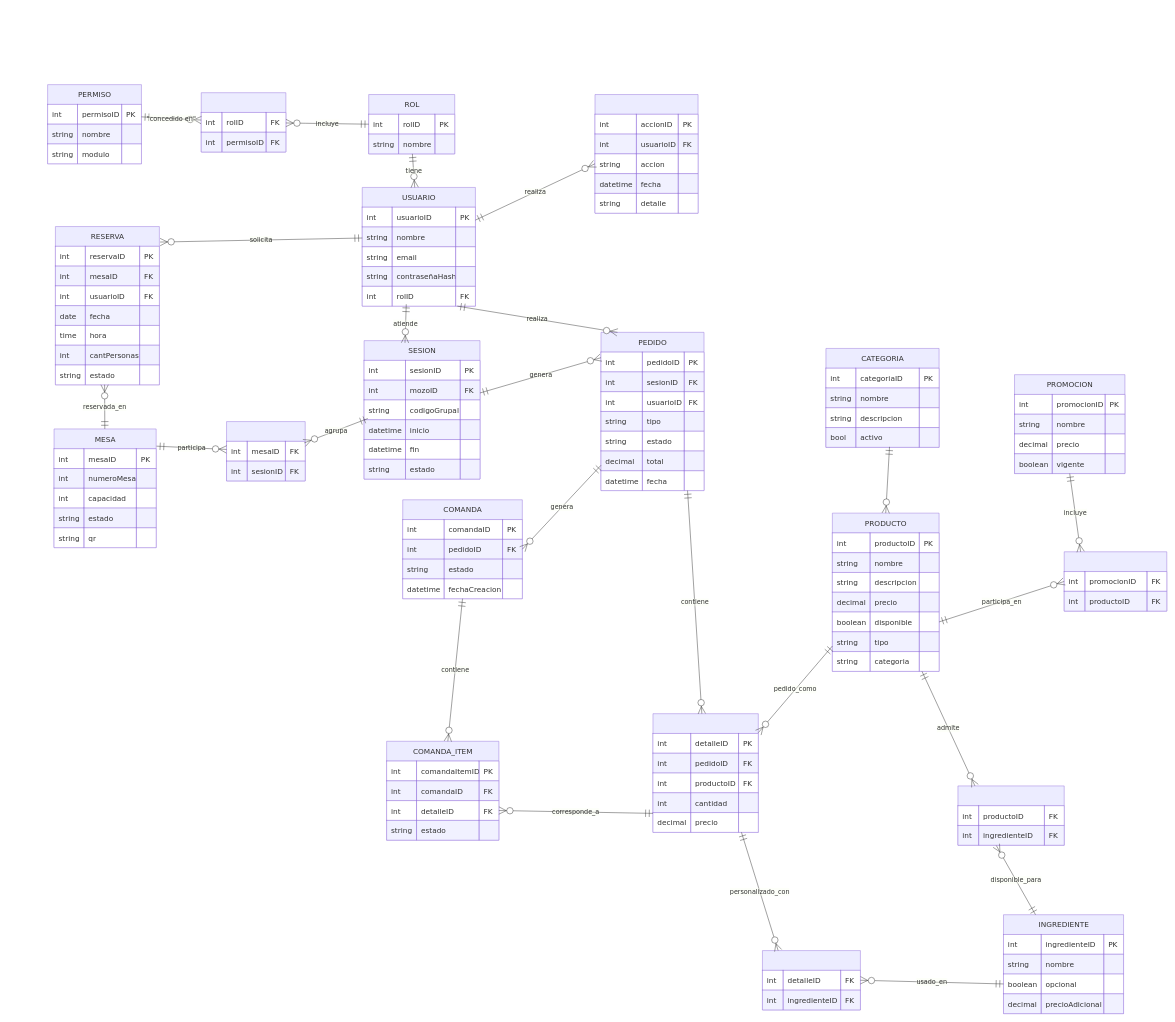
The diagram is 1175 pixels wide and 1022 high, and some of its shapes have lost their labels. Here are the shapes that lost their labels. From the top down, the box of each, then its label:
(201, 92, 286, 152): ROL_PERMISO
(595, 94, 698, 213): HISTORIAL_ACCION
(226, 421, 305, 481): MESA_SESION
(1064, 551, 1167, 611): PROMOCION_PRODUCTO
(653, 713, 758, 832): DETALLE_PEDIDO
(957, 785, 1064, 845): PRODUCTO_INGREDIENTE
(762, 950, 860, 1010): DETALLE_INGREDIENTE
